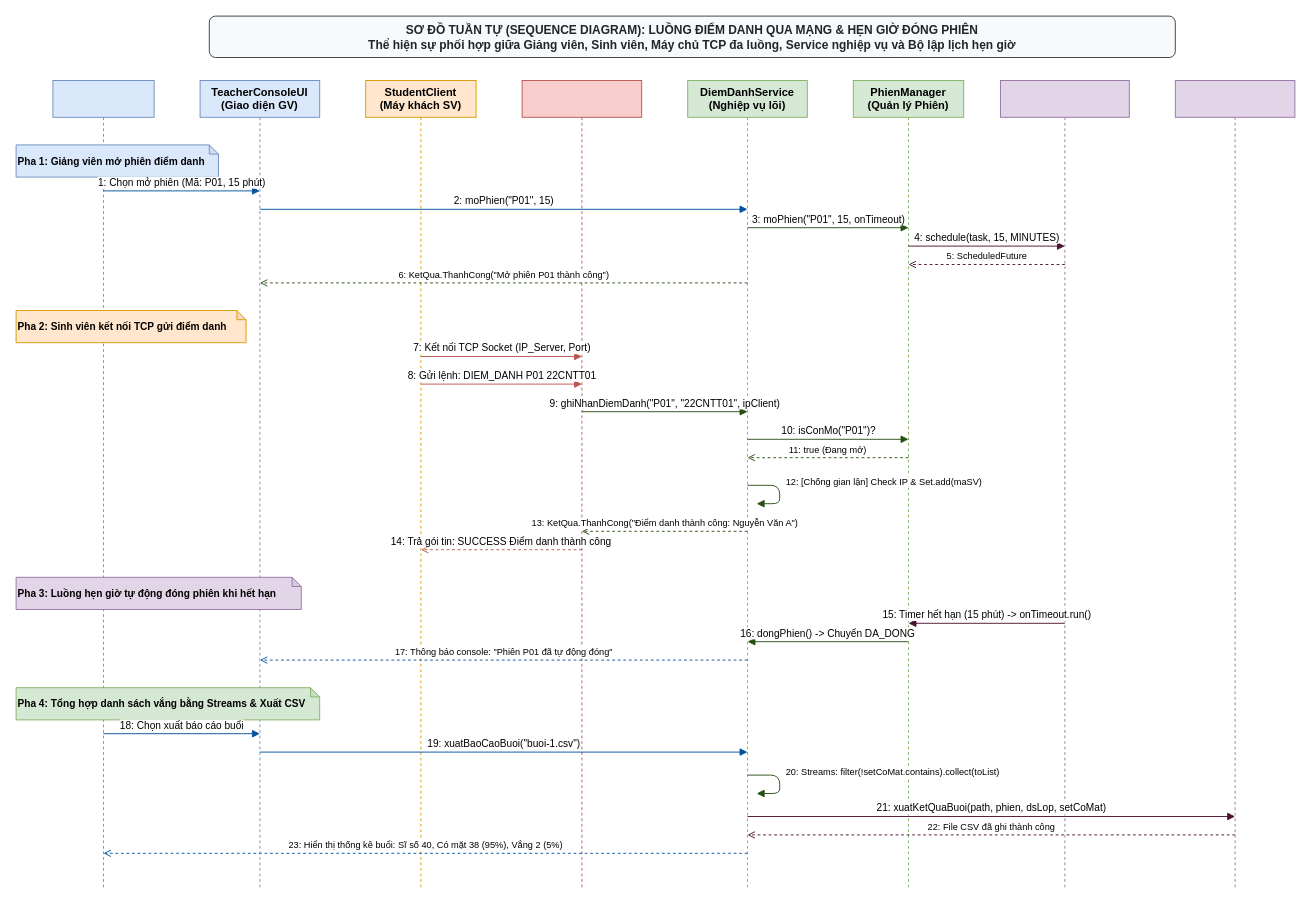
The diagram is 1311 pixels wide and 906 high, and some of its shapes have lost their labels. Each missing label, with the box of its shape:
ClientHandler (Luồng Worker TCP): (521, 80, 642, 890)
CsvStorageService (Lưu trữ CSV): (1174, 80, 1295, 890)
Giảng viên (Teacher): (52, 80, 154, 890)
ScheduledExecutor (Bộ hẹn giờ Ch4): (1000, 80, 1129, 890)
